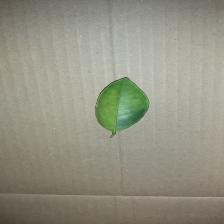greening: (93, 76, 154, 137)
